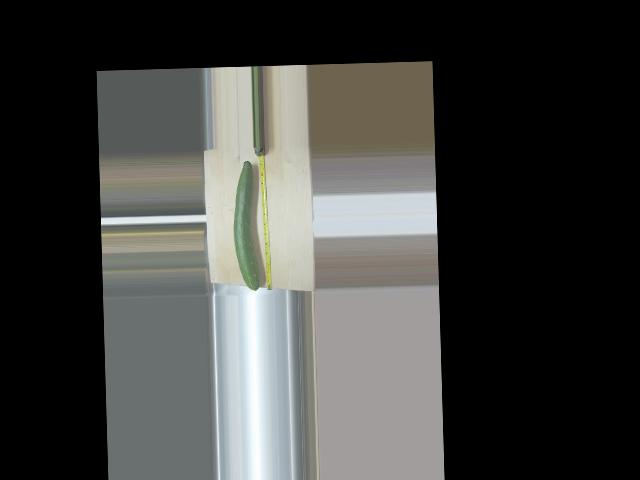cucumber: (232, 160, 261, 291)
